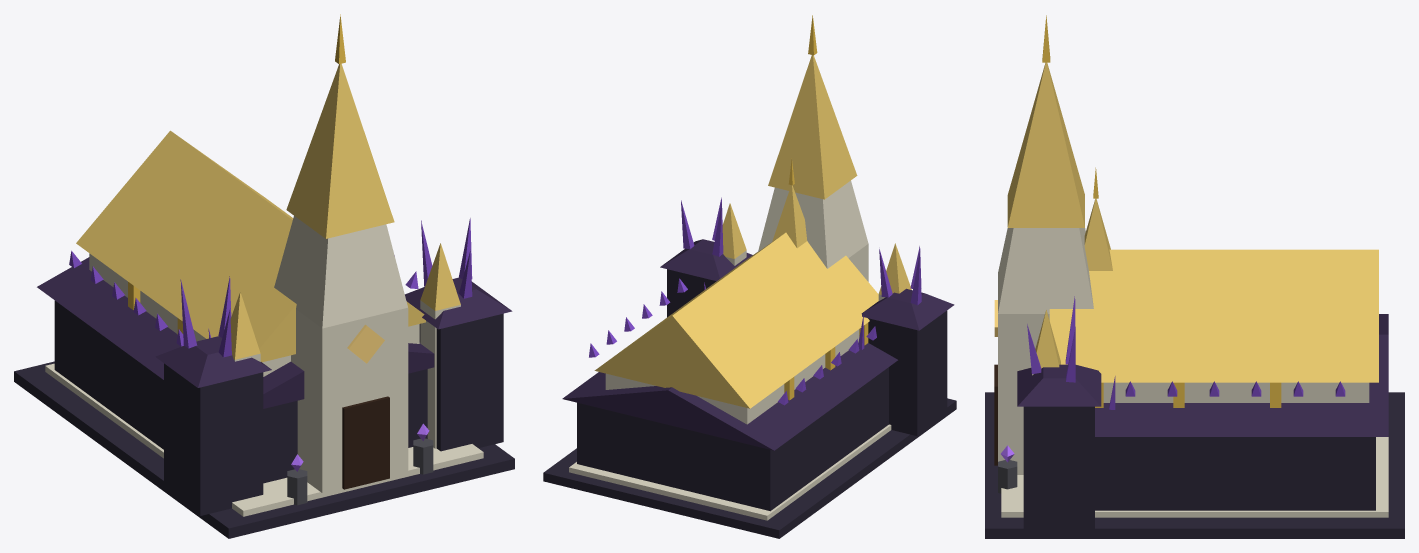
The model's file is Env_Temples.obj.
The picture shows the model from 3 angles, left to right: view 1: azimuth 30°, elevation 25°; view 2: azimuth 150°, elevation 25°; view 3: azimuth 270°, elevation 25°; orthographic projection. The views are drawn at different scales.
Parts seen in each view (by area): view 1: Env_Temple_Great_Light, Env_Temple_Great_Dark; view 2: Env_Temple_Great_Dark, Env_Temple_Great_Light, Env_Temple_Light; view 3: Env_Temple_Great_Light, Env_Temple_Great_Dark, Env_Temple_Light.
Part boxes in pixels (x1,y1,x2,y2): Env_Temple_Great_Light: (45,14,483,516); Env_Temple_Great_Dark: (14,218,514,538); Env_Temple_Great_Dark: (543,197,956,538); Env_Temple_Great_Light: (569,15,911,520); Env_Temple_Light: (772,158,807,248); Env_Temple_Great_Light: (994,15,1388,517); Env_Temple_Great_Dark: (985,296,1404,538); Env_Temple_Light: (1084,167,1112,270).
Bounding box in the file's own units: 16.5 × 23.4 × 19.5.
